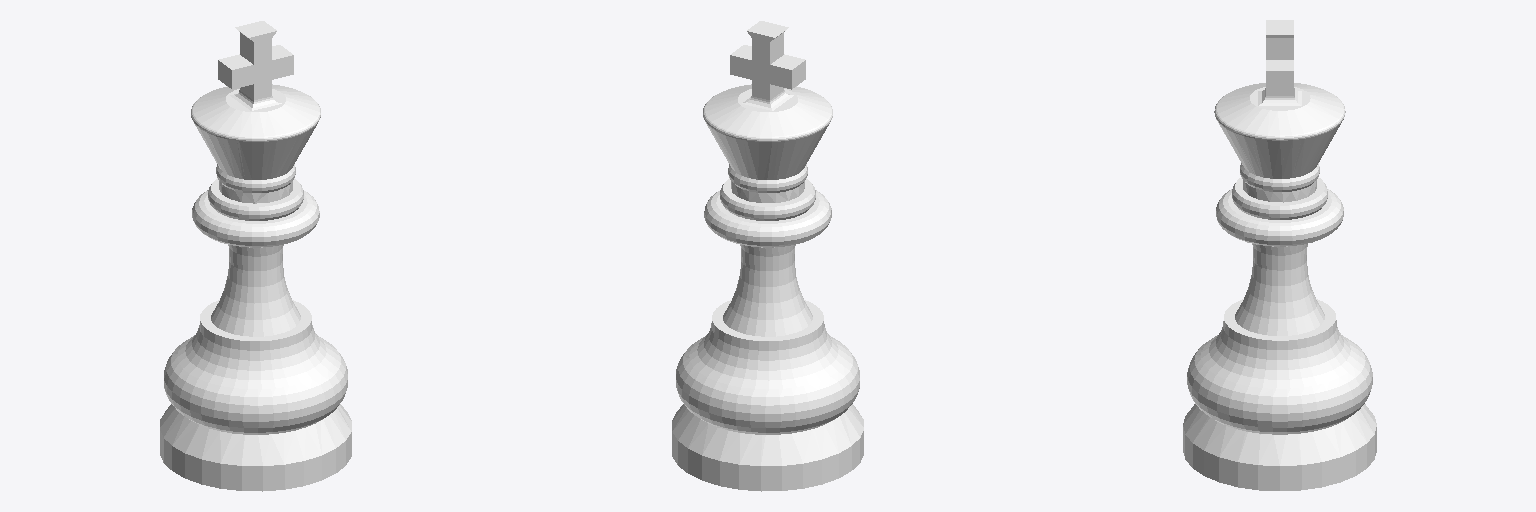
URDF robot description (king_black):
<?xml version="1.0" encoding="utf-8"?>
<!-- This URDF was automatically created by SolidWorks to URDF Exporter! Originally created by [author] ([email redacted]) 
     Commit Version: 1.5.1-0-g916b5db  Build Version: 1.5.7152.31018
     For more information, please see http://wiki.ros.org/sw_urdf_exporter -->
<robot
  name="king_black">
  <link
    name="king_black">
    <inertial>
      <origin
        xyz="1.8116E-11 1.26780001186215E-10 0.019373"
        rpy="0 0 0" />
      <mass
        value="0.013028" />
      <inertia
        ixx="4.1429E-06"
        ixy="-5.9805E-15"
        ixz="-1.3952E-14"
        iyy="4.1437E-06"
        iyz="4.12659997926766E-14"
        izz="7.5774E-07" />
    </inertial>
    <visual>
      <origin
        xyz="0 0 0"
        rpy="1.5707963267949 0 0" />
      <geometry>
        <mesh
          filename="package://king_black/meshes/king_black.STL" />
      </geometry>
      <material
        name="">
        <color
          rgba="1 1 1 1" />
        <texture
          filename="package://king_black/textures/" />
      </material>
    </visual>
    <collision>
      <origin
        xyz="0 0 0"
        rpy="1.5707963267949 0 0" />
      <geometry>
        <mesh
          filename="package://king_black/meshes/king_black.STL" />
      </geometry>
    </collision>
  </link>
</robot>

--- Render facts (derived) ---
The picture shows the robot from 3 angles, left to right: view 1: azimuth 30°, elevation 25°; view 2: azimuth 150°, elevation 25°; view 3: azimuth 270°, elevation 25°; orthographic projection.
Model king_black with 1 links and 0 joints (none), rooted at king_black, posed every joint at zero.
Links seen in each view (by area): view 1: king_black; view 2: king_black; view 3: king_black.
Boxes of the visible links, box(x1,y1,x2,y2) form: king_black: box(160, 21, 351, 491); king_black: box(672, 21, 863, 491); king_black: box(1183, 20, 1376, 490).
Size in the robot's own frame: 0.027 by 0.027 by 0.0649 metres.
Meshes: 1 distinct files referenced, 1 mesh visuals loaded (1 binary STL).
